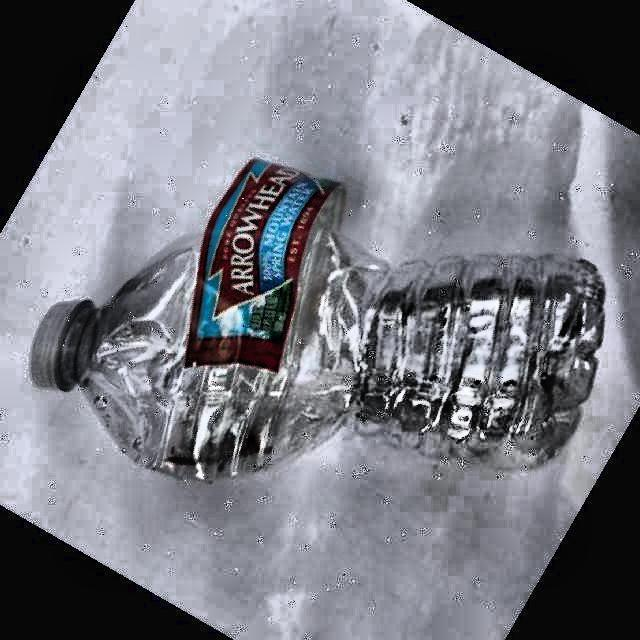plastic: (31, 160, 604, 481)
